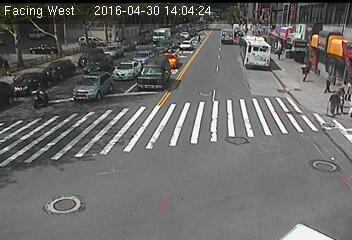neg: (227, 45, 269, 102), (26, 78, 48, 107), (178, 49, 196, 73), (110, 68, 124, 87)
pos: (318, 90, 339, 118), (320, 68, 338, 92), (299, 61, 315, 82)
